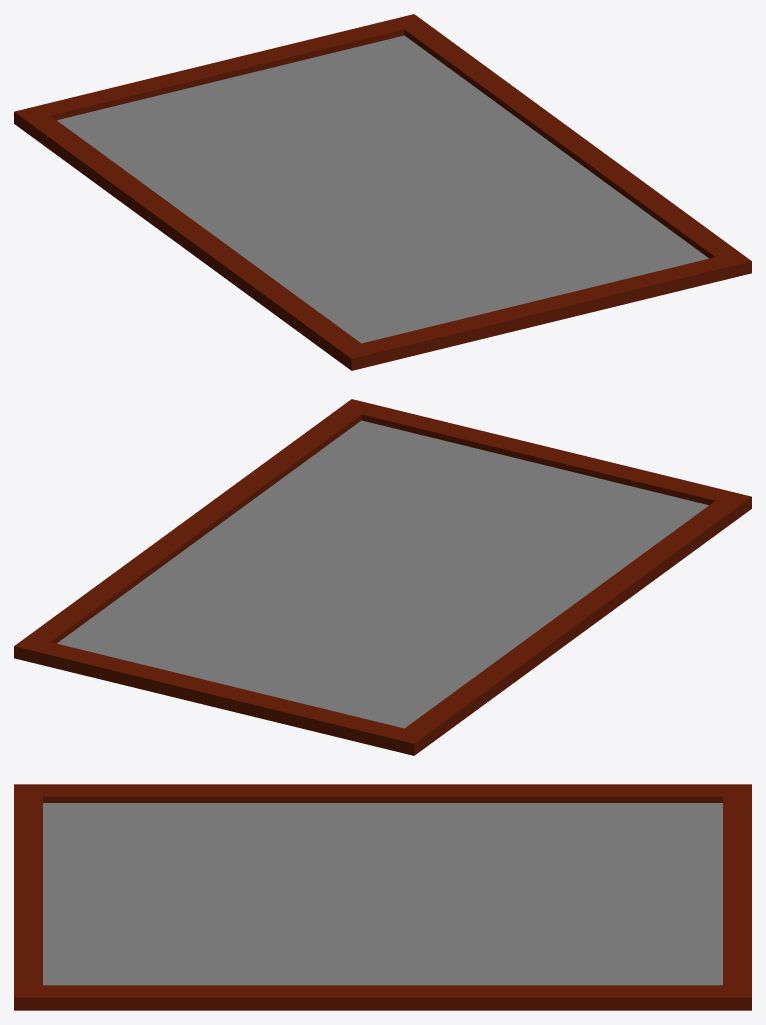
The picture shows the model from 3 angles, top to bottom: view 1: azimuth 30°, elevation 25°; view 2: azimuth 150°, elevation 25°; view 3: azimuth 270°, elevation 25°; orthographic projection. The views are drawn at different scales.
Parts seen in each view (by area): view 1: anisetta evangelisti monkey poster framed; view 2: anisetta evangelisti monkey poster framed; view 3: anisetta evangelisti monkey poster framed.
Part boxes in pixels (x1,y1,x2,y2): anisetta evangelisti monkey poster framed: (14, 14, 751, 370); anisetta evangelisti monkey poster framed: (14, 399, 751, 755); anisetta evangelisti monkey poster framed: (14, 784, 751, 1010).
Bounding box in the file's own units: 26 × 0.75 × 38.
